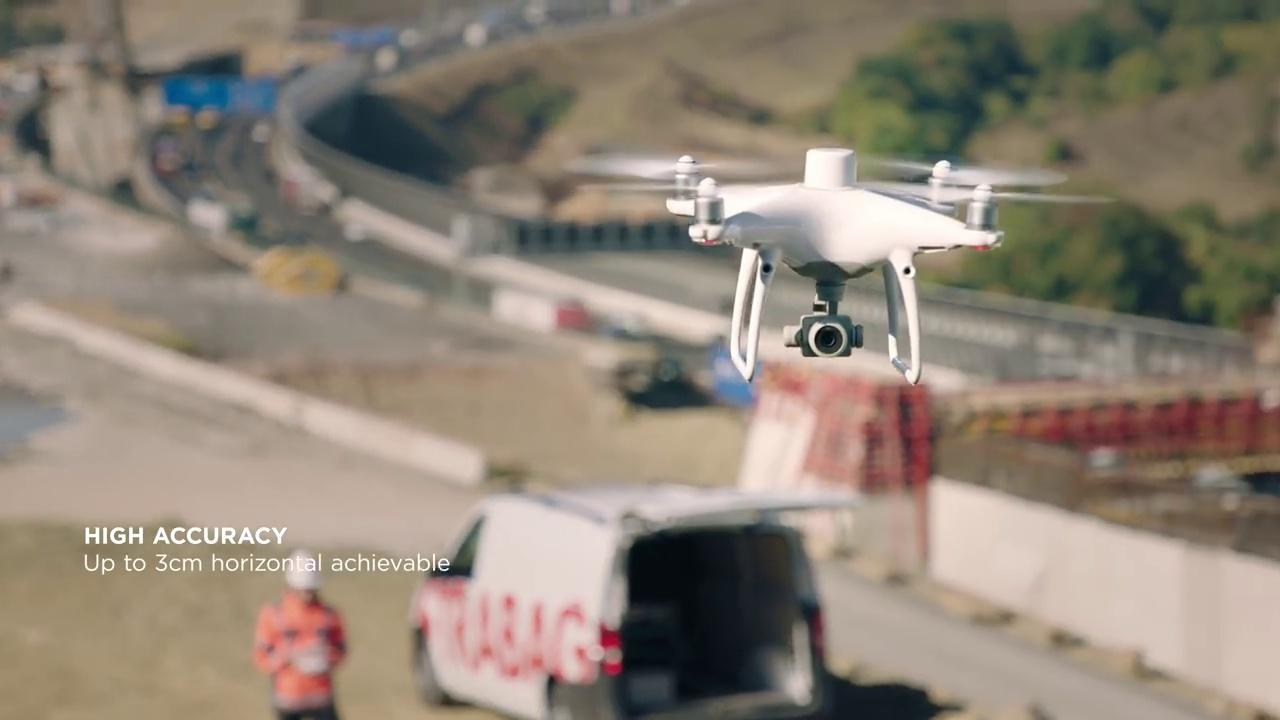drone: (558, 144, 1124, 389)
